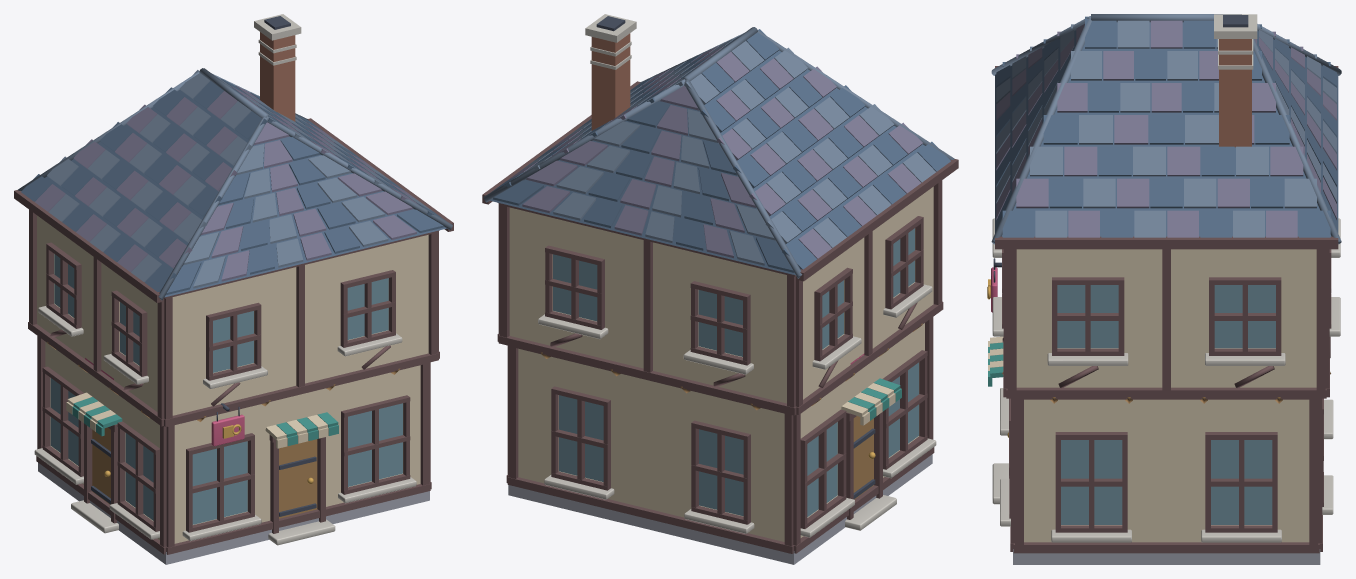
The model's file is tavern.glb.
3 views of the same model, side by side, from view 1: azimuth 30°, elevation 25°; view 2: azimuth 150°, elevation 25°; view 3: azimuth 270°, elevation 25° (orthographic). The views are drawn at different scales.
Visible parts, largest first — view 1: tavern_hipped_roof, tavern_front_wall.028, tavern_stone_footing, glass_tavern_front_floor0_window0, glass_tavern_front_floor0_window1, tavern_front_beam.002, tavern_front_wall.027, tavern_front_wall.029, tavern_russet_chimney, tavern_front_oak_door, tavern_front_beam, tavern_front_wall.023 (+95 smaller); view 2: tavern_hipped_roof, tavern_back_wall.006, tavern_back_wall.019, tavern_stone_footing, tavern_back_beam.002, tavern_back_wall.007, tavern_russet_chimney, tavern_back_wall.018, tavern_back_wall.020, tavern_back_beam, tavern_back_wall.001, tavern_back_wall.011 (+108 smaller); view 3: tavern_hipped_roof, tavern_right_wall.006, tavern_right_wall.019, tavern_eave_fascia.001, glass_tavern_right_floor0_window0, glass_tavern_right_floor0_window1, tavern_right_beam.002, tavern_stone_footing, tavern_right_beam, tavern_russet_chimney, tavern_right_wall.007, glass_tavern_right_floor1_window0 (+110 smaller).
Boxes of the visible parts, x1,y1,x2,y2 form: tavern_hipped_roof: [45, 90, 446, 297]; tavern_front_wall.028: [254, 286, 340, 362]; tavern_stone_footing: [38, 463, 429, 564]; glass_tavern_front_floor0_window0: [192, 441, 247, 524]; glass_tavern_front_floor0_window1: [348, 403, 402, 486]; tavern_front_beam.002: [164, 353, 438, 426]; tavern_front_wall.027: [254, 342, 344, 395]; tavern_front_wall.029: [254, 255, 344, 305]; tavern_russet_chimney: [260, 32, 295, 121]; tavern_front_oak_door: [279, 439, 317, 518]; tavern_front_beam: [166, 483, 430, 554]; tavern_front_wall.023: [172, 319, 205, 382]; tavern_hipped_roof: [490, 50, 925, 275]; tavern_back_wall.006: [611, 404, 691, 503]; tavern_back_wall.019: [605, 263, 698, 345]; tavern_stone_footing: [508, 454, 932, 564]; tavern_back_beam.002: [498, 335, 796, 415]; tavern_back_wall.007: [606, 370, 698, 423]; tavern_russet_chimney: [591, 33, 630, 130]; tavern_back_wall.018: [600, 323, 698, 381]; tavern_back_wall.020: [600, 229, 698, 284]; tavern_back_beam: [507, 477, 793, 553]; tavern_back_wall.001: [518, 382, 558, 471]; tavern_back_wall.011: [751, 438, 784, 526]; tavern_hipped_roof: [995, 22, 1338, 236]; tavern_right_wall.006: [1127, 437, 1205, 525]; tavern_right_wall.019: [1124, 282, 1208, 348]; tavern_eave_fascia.001: [995, 236, 1338, 249]; glass_tavern_right_floor0_window0: [1061, 440, 1122, 524]; glass_tavern_right_floor0_window1: [1211, 440, 1272, 524]; tavern_right_beam.002: [1006, 387, 1326, 398]; tavern_stone_footing: [1013, 549, 1320, 564]; tavern_right_beam: [1013, 542, 1319, 553]; tavern_russet_chimney: [1219, 39, 1251, 147]; tavern_right_wall.007: [1122, 399, 1210, 436]; glass_tavern_right_floor1_window0: [1057, 285, 1118, 348].
Bounding box in the file's own units: 6.86 × 9.35 × 5.89.
